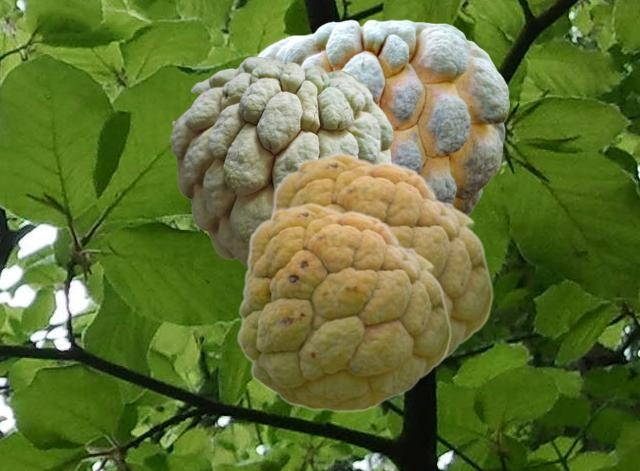atis: (255, 19, 508, 214), (170, 56, 392, 266), (270, 152, 492, 360), (236, 202, 450, 411)
